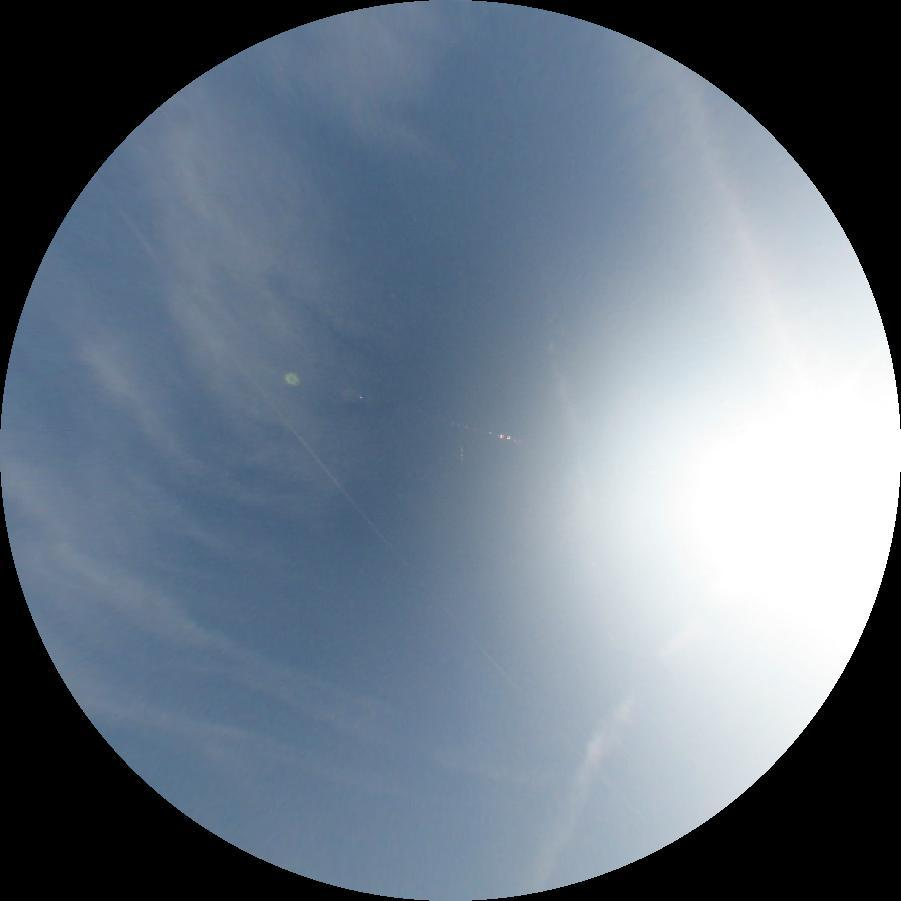contrail veryold: (65, 559, 572, 820), (561, 0, 819, 429), (519, 687, 638, 901)
contrail young: (80, 173, 667, 850)
